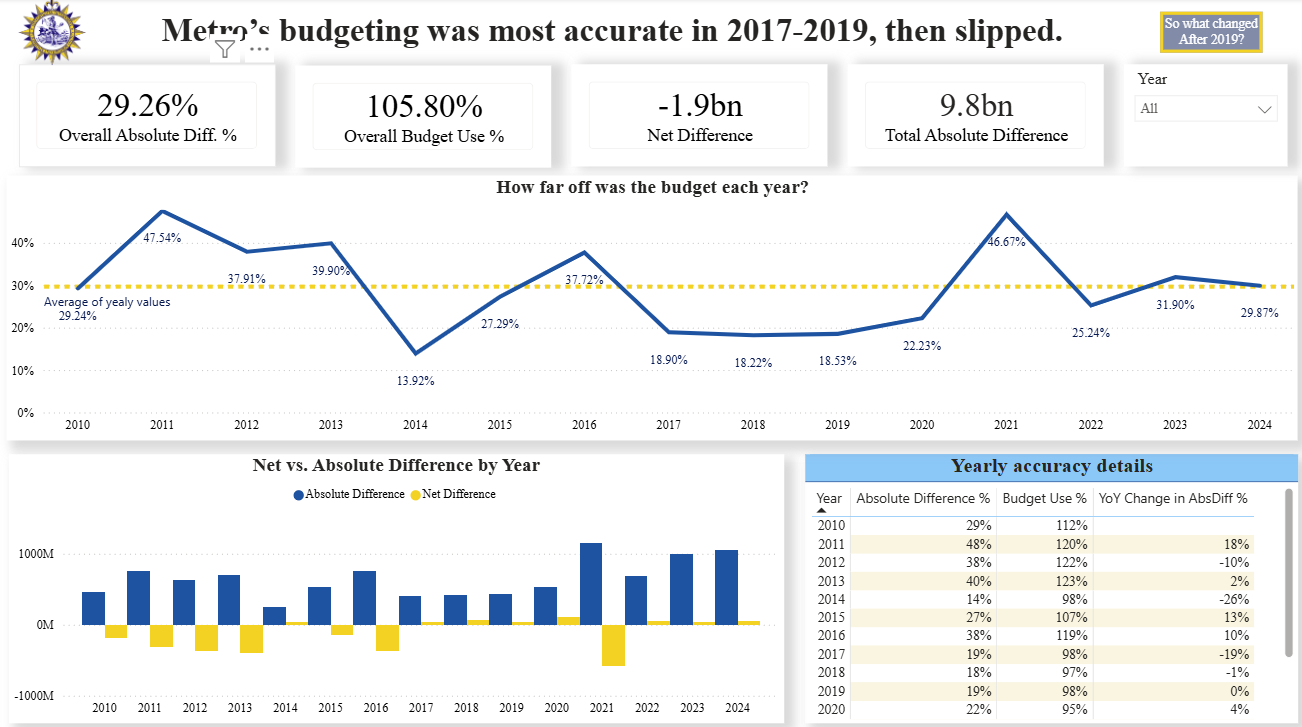

The dashboard page shown, as its layout file describes it:
{"tool":"powerbi","page":{"name":"Budget Accuracy Overview","canvas":[1280,720],"ordinal":1},"visuals":[{"type":"tableEx","title":"Yearly accuracy details","fields":{"Values":["Dim Year.Year","Fact Budget vs Actual.Absolute Difference %","Fact Budget vs Actual.Budget Use %","Fact Budget vs Actual.YoY Change in AbsDiff %"]},"box":[788.8,446.3,482.9,263.4],"z":0},{"type":"textbox","box":[153.7,7.3,1063.9,58.5],"z":1000},{"type":"cardVisual","title":"Overall Absolute Diff. %","fields":{"Data":["Fact Budget vs Actual.Absolute Difference %"]},"box":[20,65,250,100],"z":2000},{"type":"cardVisual","fields":{"Data":["Fact Budget vs Actual.Budget Use %"]},"box":[290,65.9,250,100],"z":3000},{"type":"cardVisual","fields":{"Data":["Fact Budget vs Actual.Net Difference"]},"box":[560,65,250,100],"z":4000},{"type":"cardVisual","fields":{"Data":["Fact Budget vs Actual.Absolute Difference"]},"box":[830,65,250,100],"z":5000},{"type":"lineChart","title":"How far off was the budget each year?","fields":{"Category":["Dim Year.Year"],"Y":["Fact Budget vs Actual.Absolute Difference %"]},"box":[7.3,174.1,1264.4,259],"z":6000},{"type":"clusteredColumnChart","title":"Net vs. Absolute Difference by Year","fields":{"Category":["Dim Year.Year"],"Y":["Fact Budget vs Actual.Absolute Difference","Fact Budget vs Actual.Net Difference"]},"box":[10.2,446.3,758,263.4],"z":7000},{"type":"slicer","fields":{"Values":["Dim Year.Year"]},"box":[1100,65,160,100],"z":8000},{"type":"image","box":[0,0,103.9,65.9],"z":9000},{"type":"actionButton","box":[1135.7,12.9,100,40],"z":10000}]}

Visuals, with their boxes in screenshot pixels (x1, y1, x2, y2), scaled from the page's 1280x720 canvas onto the 1302x727 screenshot:
"Yearly accuracy details" tableEx: left=802, top=451, right=1294, bottom=717
textbox: left=156, top=7, right=1239, bottom=66
"Overall Absolute Diff. %" cardVisual: left=20, top=66, right=275, bottom=167
cardVisual - Fact Budget vs Actual.Budget Use %: left=295, top=67, right=549, bottom=168
cardVisual - Fact Budget vs Actual.Net Difference: left=570, top=66, right=824, bottom=167
cardVisual - Fact Budget vs Actual.Absolute Difference: left=844, top=66, right=1099, bottom=167
"How far off was the budget each year?" lineChart: left=7, top=176, right=1294, bottom=437
"Net vs. Absolute Difference by Year" clusteredColumnChart: left=10, top=451, right=781, bottom=717
slicer - Dim Year.Year: left=1119, top=66, right=1282, bottom=167
image: left=0, top=0, right=106, bottom=67
actionButton: left=1155, top=13, right=1257, bottom=53
